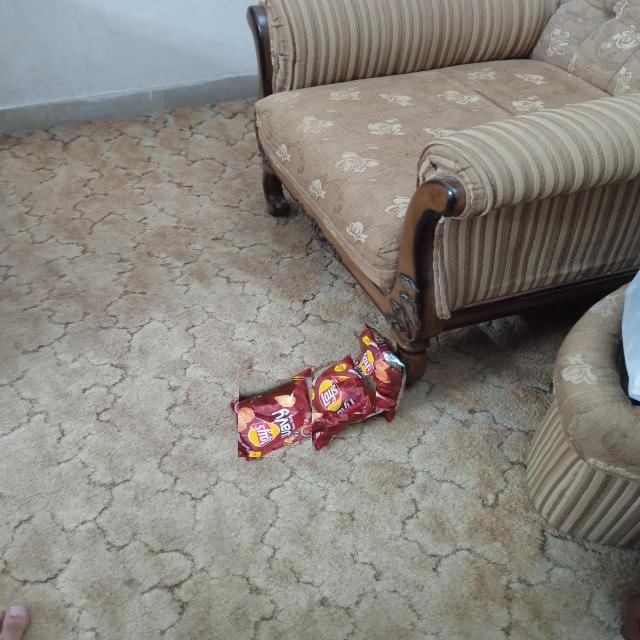Plastic: (238, 377, 312, 457), (310, 366, 366, 423), (355, 328, 400, 383)
